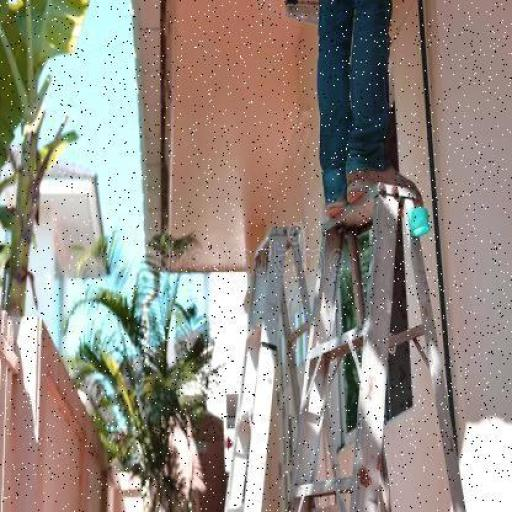safety_shoe: (348, 148, 424, 202), (323, 162, 369, 213)
